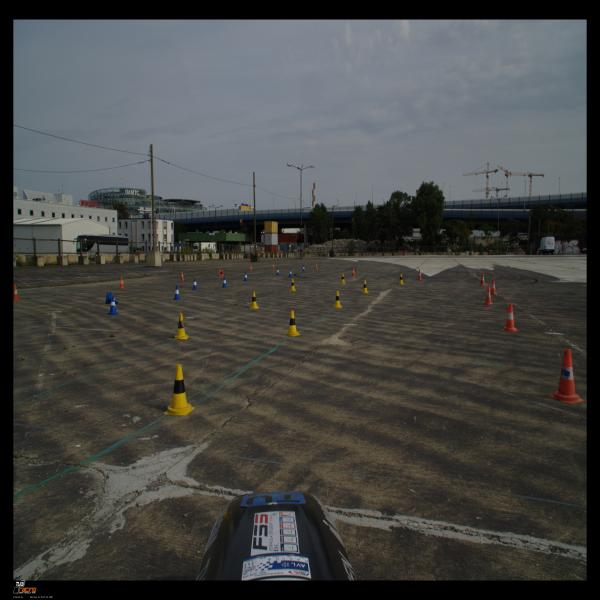blue_cone: (108, 296, 118, 315), (106, 292, 118, 304), (173, 286, 181, 300), (192, 278, 199, 290), (222, 276, 228, 288), (244, 272, 248, 282), (288, 269, 292, 277), (276, 268, 280, 276), (302, 265, 305, 271)
orange_cone: (549, 349, 585, 404), (502, 303, 518, 332), (483, 286, 493, 305), (14, 284, 22, 301), (118, 276, 126, 289), (491, 279, 497, 295), (480, 273, 486, 285), (417, 269, 422, 280), (181, 271, 185, 281), (351, 268, 355, 276), (219, 270, 224, 276), (315, 262, 318, 270), (272, 262, 275, 269), (250, 264, 252, 271)
yellow_cone: (164, 364, 195, 415), (174, 312, 189, 340), (284, 311, 300, 336), (332, 290, 343, 308), (250, 291, 258, 309), (361, 280, 369, 293), (290, 279, 296, 291), (340, 273, 346, 284), (398, 274, 404, 284)
